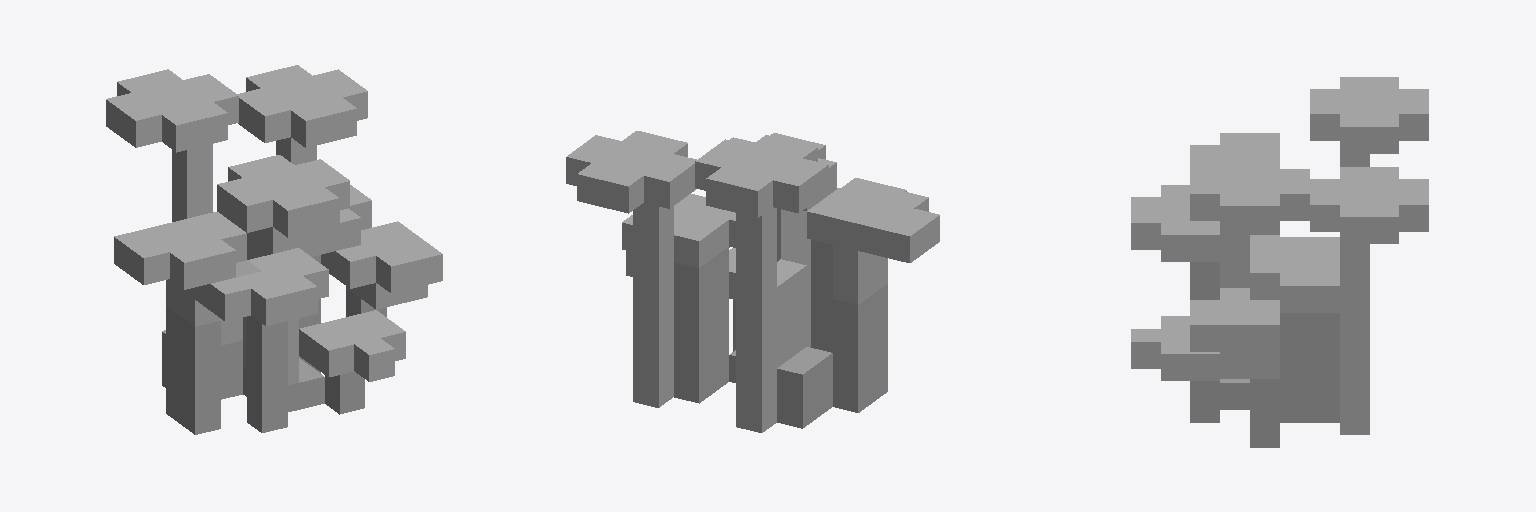
3 views of the same model, side by side, from view 1: azimuth 30°, elevation 25°; view 2: azimuth 150°, elevation 25°; view 3: azimuth 270°, elevation 25° (orthographic).
Visible parts, largest first — view 1: object 1; view 2: object 1; view 3: object 1.
Boxes of the visible parts, x1=… form: object 1: x1=106, y1=65, x2=442, y2=434; object 1: x1=566, y1=131, x2=939, y2=432; object 1: x1=1131, y1=77, x2=1428, y2=447.
Bounding box in the file's own units: 1.1 × 1 × 1.
1 materials, 1 textured.